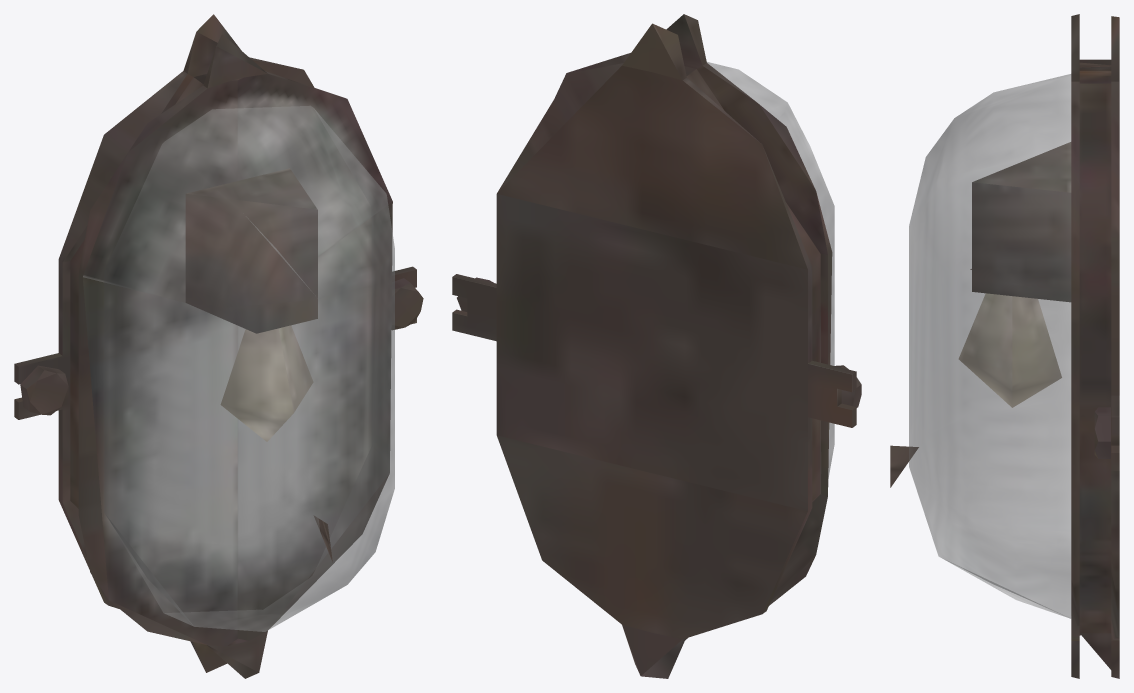
File: lampWall_lo.glb
The picture shows the model from 3 angles, left to right: view 1: azimuth 30°, elevation 25°; view 2: azimuth 150°, elevation 25°; view 3: azimuth 270°, elevation 25°; orthographic projection.
Visible parts, largest first — view 1: industrial_wall_lamp; view 2: industrial_wall_lamp; view 3: industrial_wall_lamp.
Boxes of the visible parts, x1=… form: industrial_wall_lamp: x1=14, y1=14, x2=423, y2=678; industrial_wall_lamp: x1=452, y1=14, x2=861, y2=678; industrial_wall_lamp: x1=890, y1=14, x2=1119, y2=678.
Size of the model in its own units: 0.2734 by 0.4283 by 0.1358.
2 materials, 2 textured.
